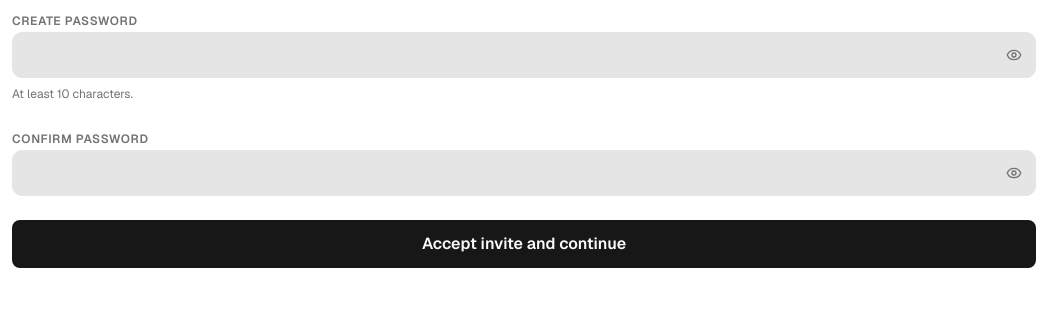
Test: AcceptInviteForm › shows a validation error inline (not the dead-end state) for a non-invite 400
The width and height of the screenshot is (1048, 313).
Type "longenough1" into the password field with test id "admin-accept-invite-password" at [524, 55], box top-left (12, 32), bottom-right (1036, 78)
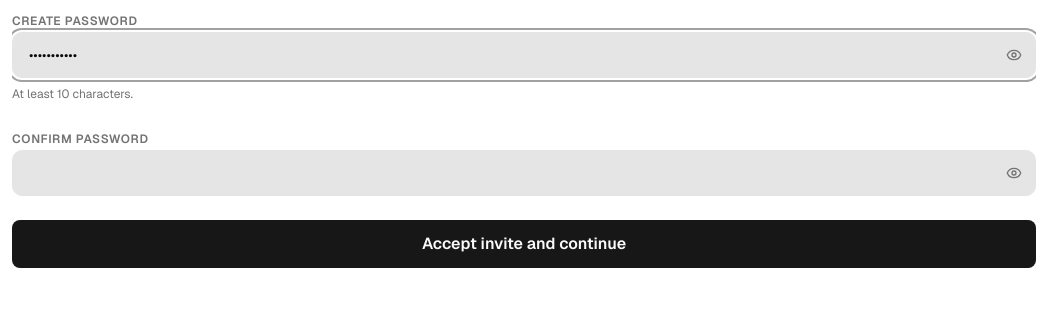
Type "longenough1" into the password field with test id "admin-accept-invite-confirm-password" at [524, 173], box top-left (12, 150), bottom-right (1036, 196)
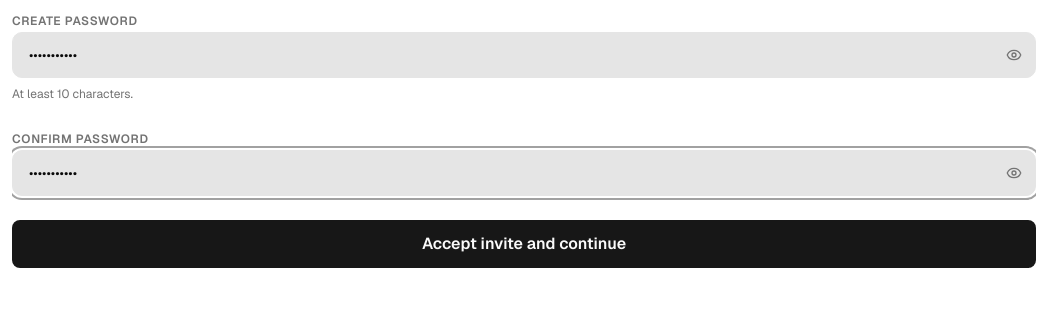
Click the button with test id "admin-accept-invite-submit" at [524, 244], box top-left (12, 220), bottom-right (1036, 268)
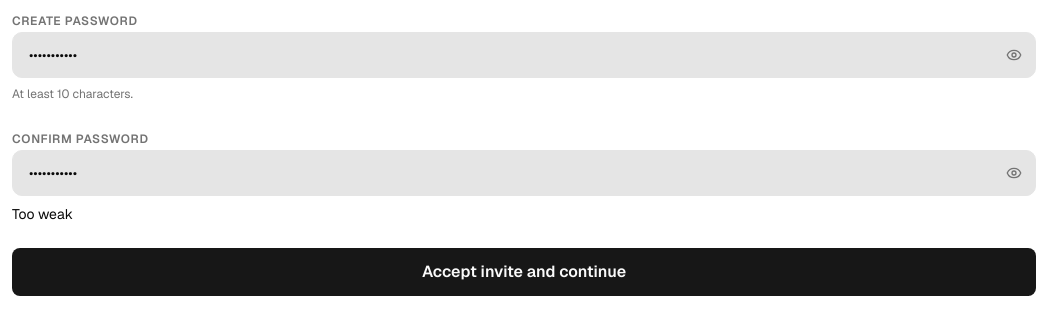
Check: the message "Too weak" is shown, box top-left (12, 205), bottom-right (73, 223)
